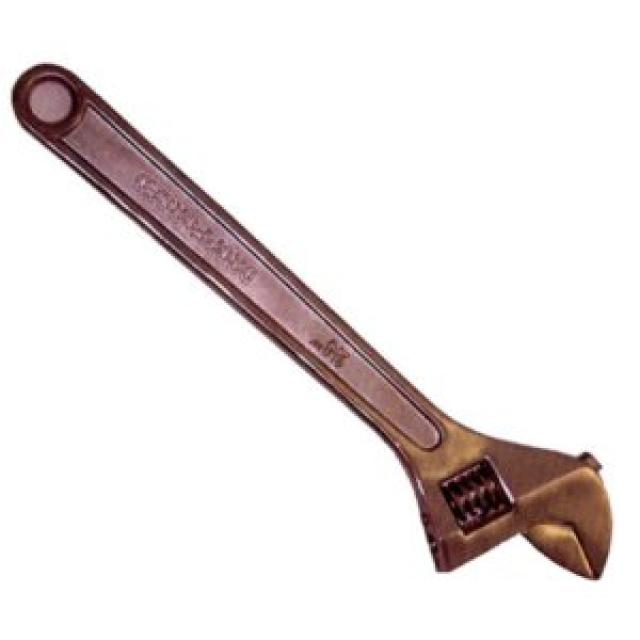wrench: (0, 0, 623, 602)
